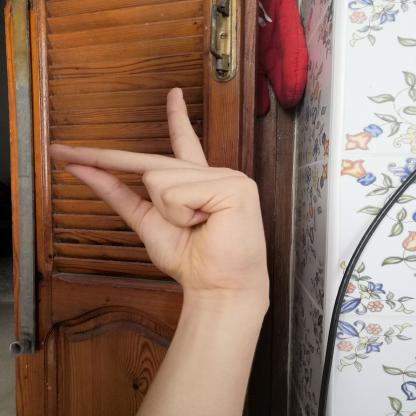TAA: (37, 75, 284, 301)
